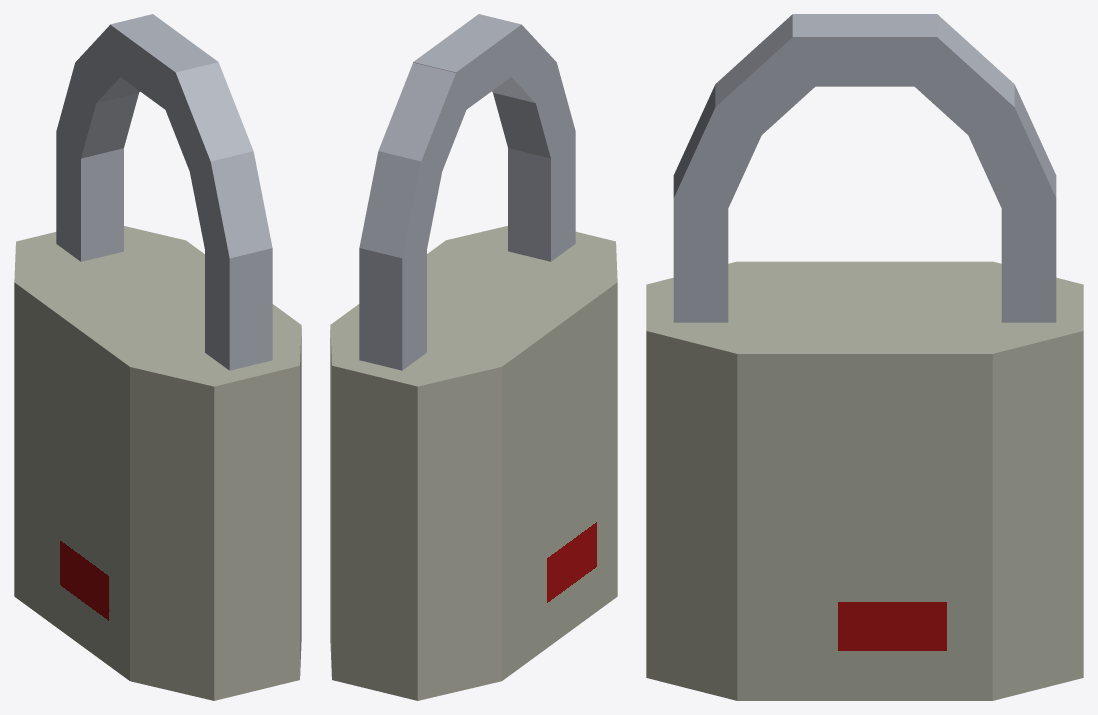
Rendered from Lacat.fbx.
3 views of the same model, side by side, from view 1: azimuth 30°, elevation 25°; view 2: azimuth 150°, elevation 25°; view 3: azimuth 270°, elevation 25° (orthographic). The views are drawn at different scales.
Parts seen in each view (by area): view 1: cube, cube_5, cube_3, cube_4, cube_1, cube_7, cube_2, cube_6; view 2: cube, cube_3, cube_5, cube_2, cube_6, cube_7, cube_4, cube_1; view 3: cube, cube_7, cube_6, cube_1, cube_3, cube_5, cube_2, cube_4.
Part boxes in pixels (x1,y1,x2,y2): cube: [14, 226, 301, 700]; cube_5: [205, 240, 272, 370]; cube_3: [56, 132, 123, 261]; cube_4: [188, 151, 272, 258]; cube_1: [158, 62, 253, 170]; cube_7: [110, 14, 217, 114]; cube_2: [56, 63, 138, 165]; cube_6: [75, 25, 139, 102]; cube: [330, 226, 617, 700]; cube_3: [359, 248, 426, 370]; cube_5: [508, 132, 575, 261]; cube_2: [359, 151, 443, 258]; cube_6: [378, 62, 473, 170]; cube_7: [413, 14, 521, 116]; cube_4: [493, 62, 575, 164]; cube_1: [492, 25, 556, 102]; cube: [646, 261, 1083, 700]; cube_7: [792, 14, 937, 86]; cube_6: [899, 15, 1014, 141]; cube_1: [715, 14, 830, 141]; cube_3: [1001, 198, 1056, 322]; cube_5: [673, 198, 728, 322]; cube_2: [965, 85, 1056, 216]; cube_4: [673, 85, 761, 216].
Bounding box in the file's own units: 25 × 79.76 × 50.
2 materials, 2 textured.
